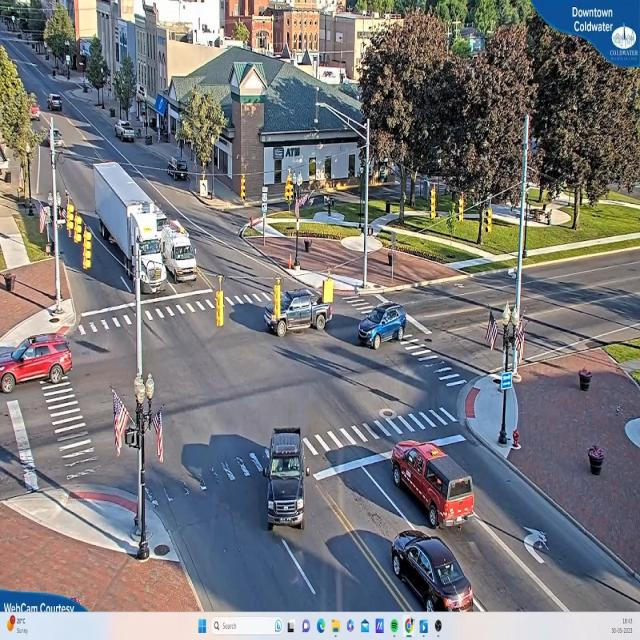car: (391, 438, 477, 530), (390, 530, 480, 612), (0, 338, 72, 394), (267, 428, 306, 526), (266, 283, 332, 337), (358, 304, 406, 349), (117, 122, 137, 144), (48, 93, 63, 111)
truck: (94, 163, 167, 294)
